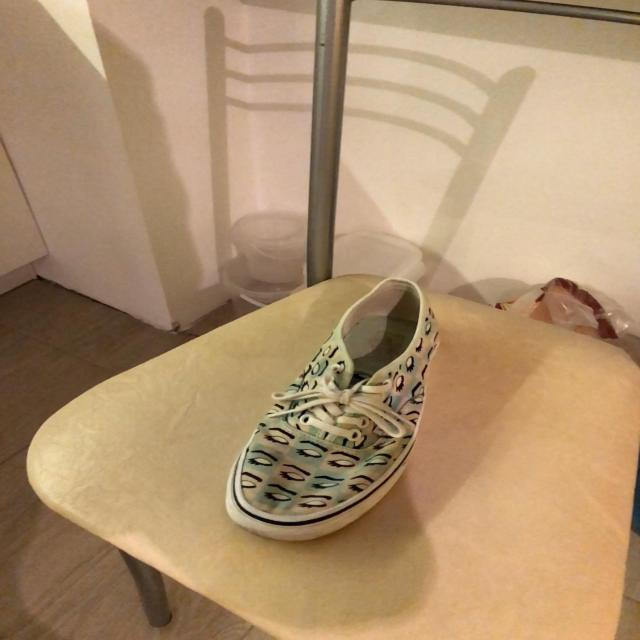shoe: (224, 279, 439, 544)
